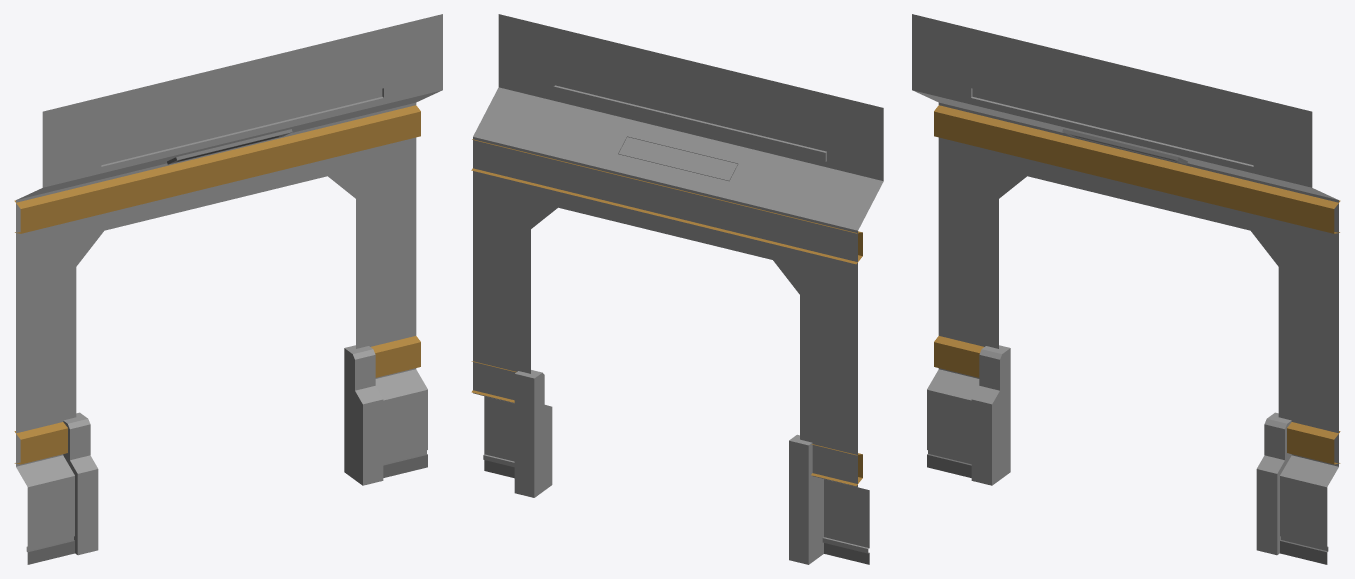
File: DoorDouble_Wall_SideB.glb
The picture shows the model from 3 angles, left to right: view 1: azimuth 30°, elevation 25°; view 2: azimuth 150°, elevation 25°; view 3: azimuth 330°, elevation 25°; orthographic projection. The views are drawn at different scales.
Parts seen in each view (by area): view 1: DoorDouble_Wall_SideB; view 2: DoorDouble_Wall_SideB; view 3: DoorDouble_Wall_SideB.
Boxes of the visible parts, x1=… form: DoorDouble_Wall_SideB: x1=14, y1=14, x2=442, y2=564; DoorDouble_Wall_SideB: x1=471, y1=14, x2=883, y2=564; DoorDouble_Wall_SideB: x1=912, y1=14, x2=1340, y2=564.
Bounding box in the file's own units: 1.36 × 1.51 × 0.1804.
